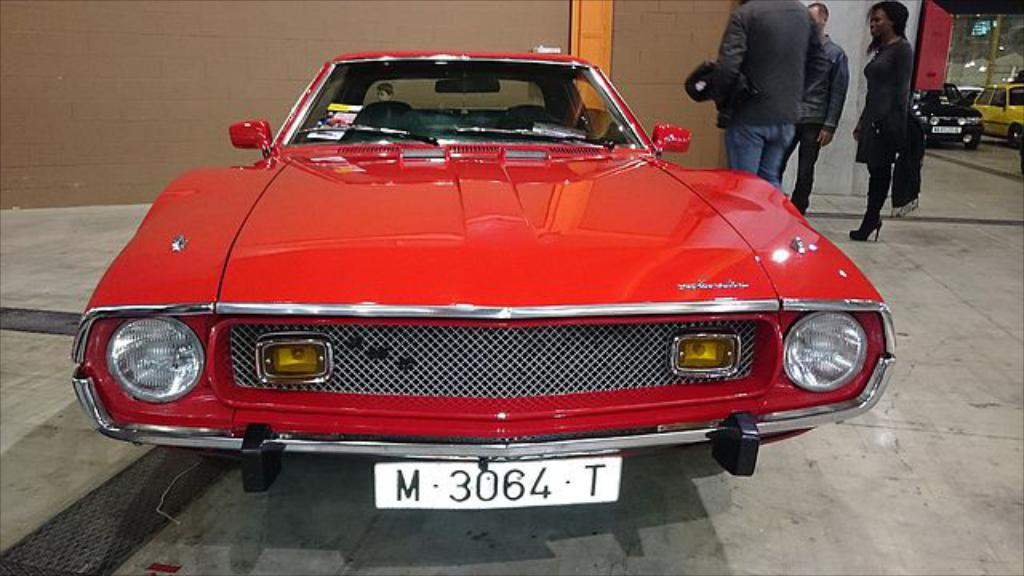Car: (86, 33, 854, 518), (903, 84, 988, 147), (971, 84, 1022, 148)
